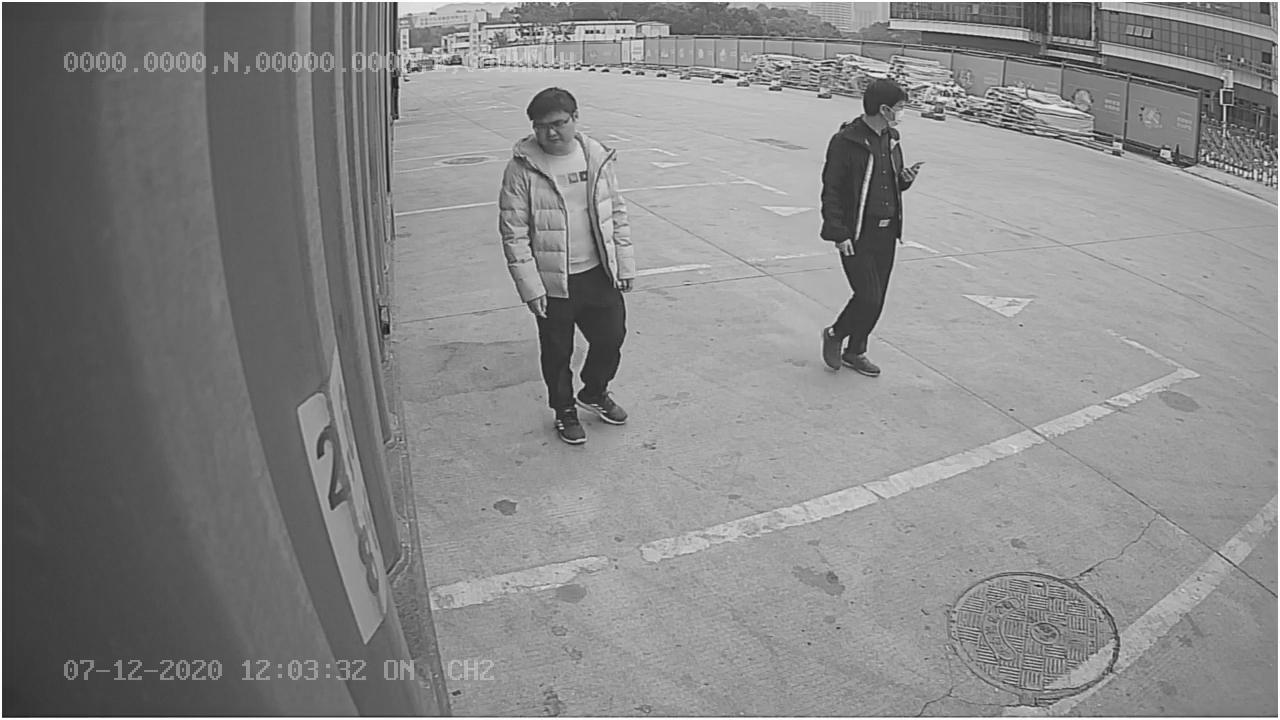person: (489, 79, 647, 445), (815, 70, 933, 378)
